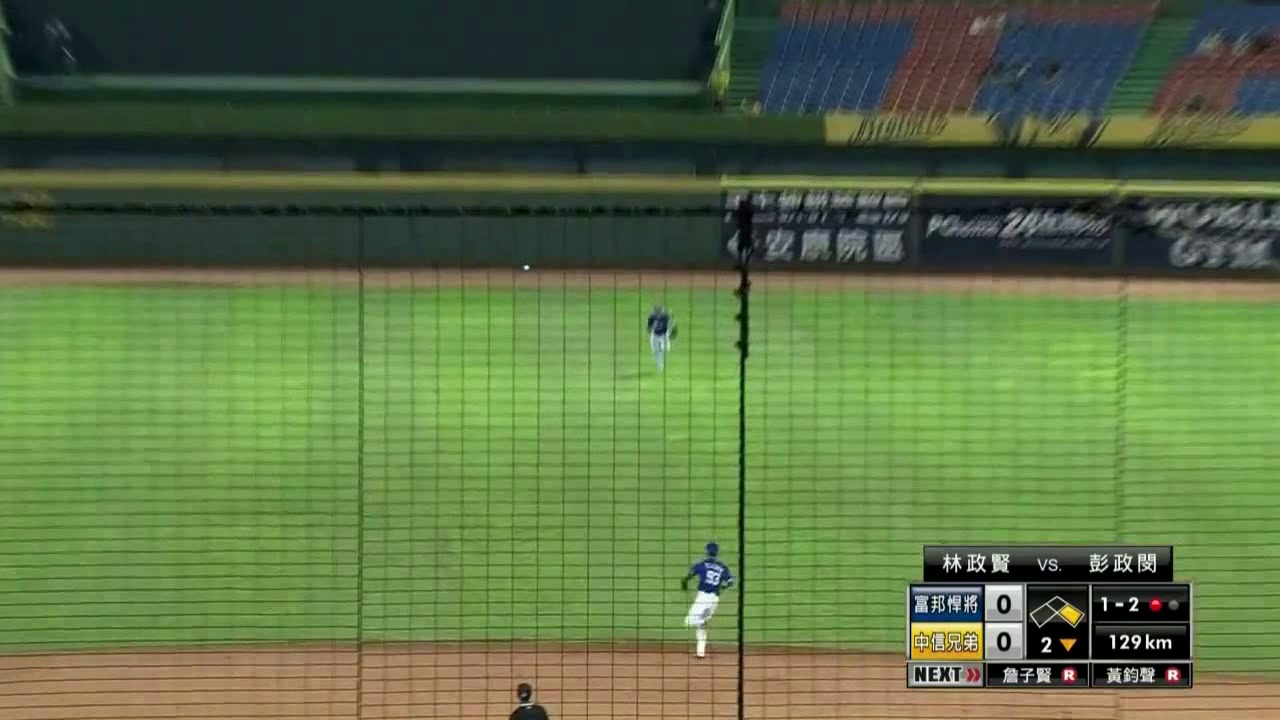ball: (521, 262, 532, 274)
base: (1029, 591, 1086, 630)
out: (1143, 589, 1185, 618)
score1: (986, 585, 1019, 617)
score2: (987, 625, 1023, 657)
session: (1027, 632, 1087, 661)
speed: (1093, 629, 1181, 656)
strikeball: (1095, 591, 1143, 619)
